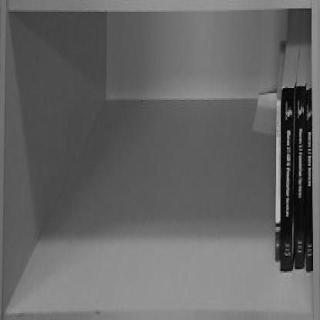book-spine: (280, 87, 294, 271), (293, 86, 307, 268), (305, 88, 313, 271), (275, 99, 281, 261)
